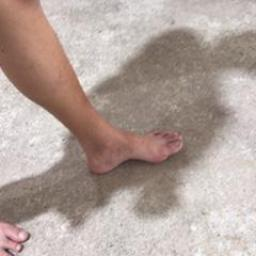Medial View -Left Foot-: (70, 117, 188, 178)
